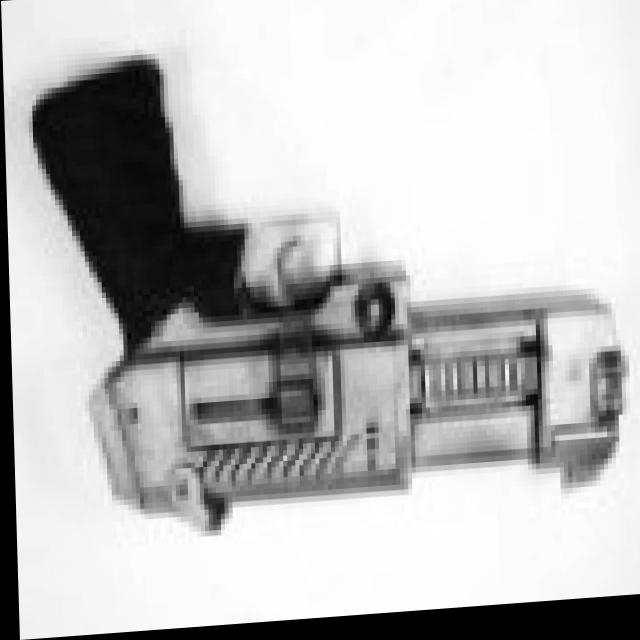handgun: (30, 39, 625, 537)
